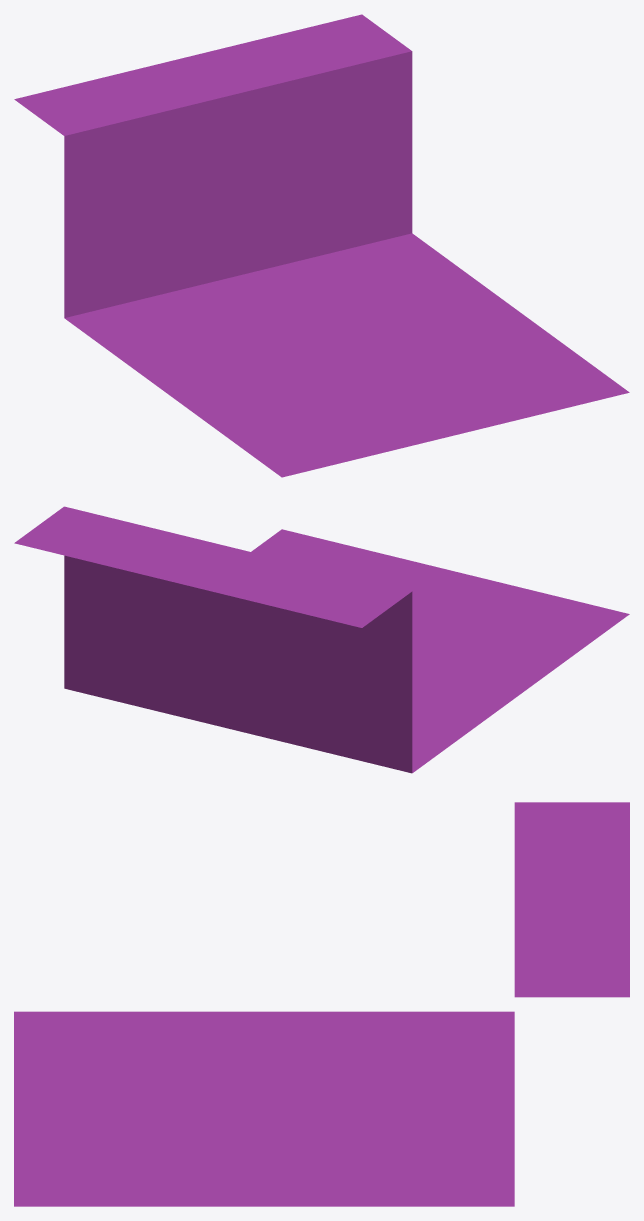
The model's file is BigWin_CeilingUp_A.FBX.
The picture shows the model from 3 angles, top to bottom: view 1: azimuth 30°, elevation 25°; view 2: azimuth 150°, elevation 25°; view 3: azimuth 270°, elevation 25°; orthographic projection. The views are drawn at different scales.
Parts seen in each view (by area): view 1: BigWin_CeilingUp_A; view 2: BigWin_CeilingUp_A; view 3: BigWin_CeilingUp_A.
Boxes of the visible parts, x1,y1,x2,y2 form: BigWin_CeilingUp_A: (14, 14, 629, 477); BigWin_CeilingUp_A: (14, 506, 629, 773); BigWin_CeilingUp_A: (14, 802, 629, 1206).
Bounding box in the file's own units: 300 × 150 × 400.
